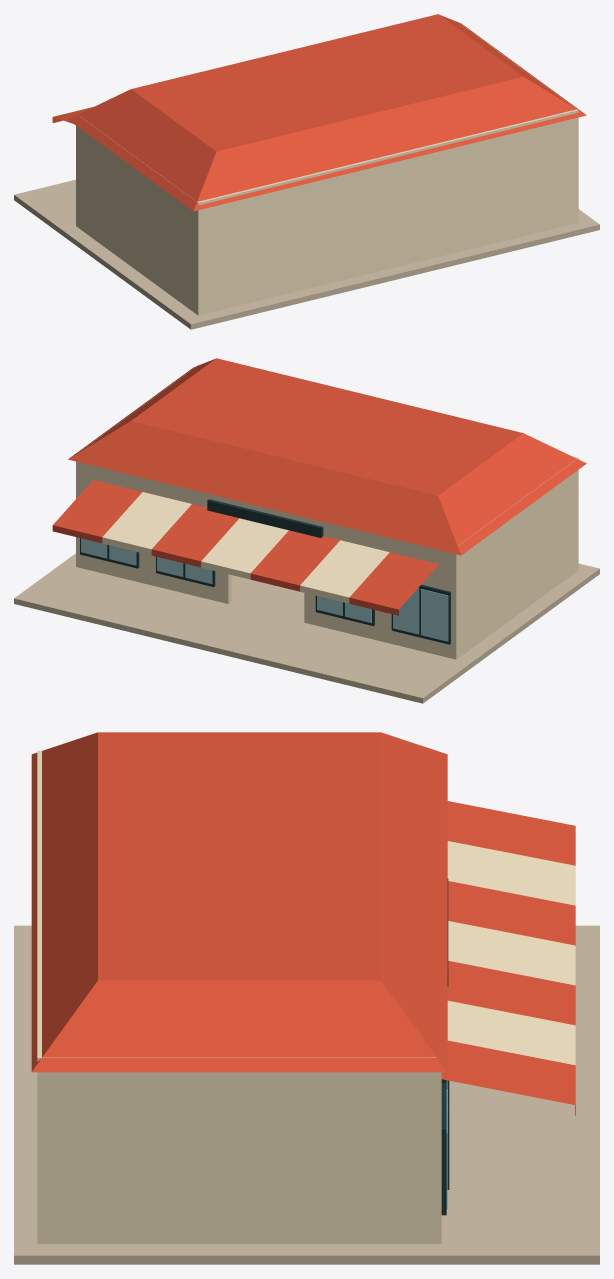
File: cafe_building.fbx
The picture shows the model from 3 angles, top to bottom: view 1: azimuth 30°, elevation 25°; view 2: azimuth 150°, elevation 25°; view 3: azimuth 270°, elevation 25°; orthographic projection. The views are drawn at different scales.
Visible parts, largest first — view 1: cafe_building; view 2: cafe_building; view 3: cafe_building.
Boxes of the visible parts, x1,y1,x2,y2 form: cafe_building: [14, 14, 599, 329]; cafe_building: [14, 358, 599, 703]; cafe_building: [14, 732, 599, 1264].
Size of the model in its own units: 16 by 5.5 by 12.
